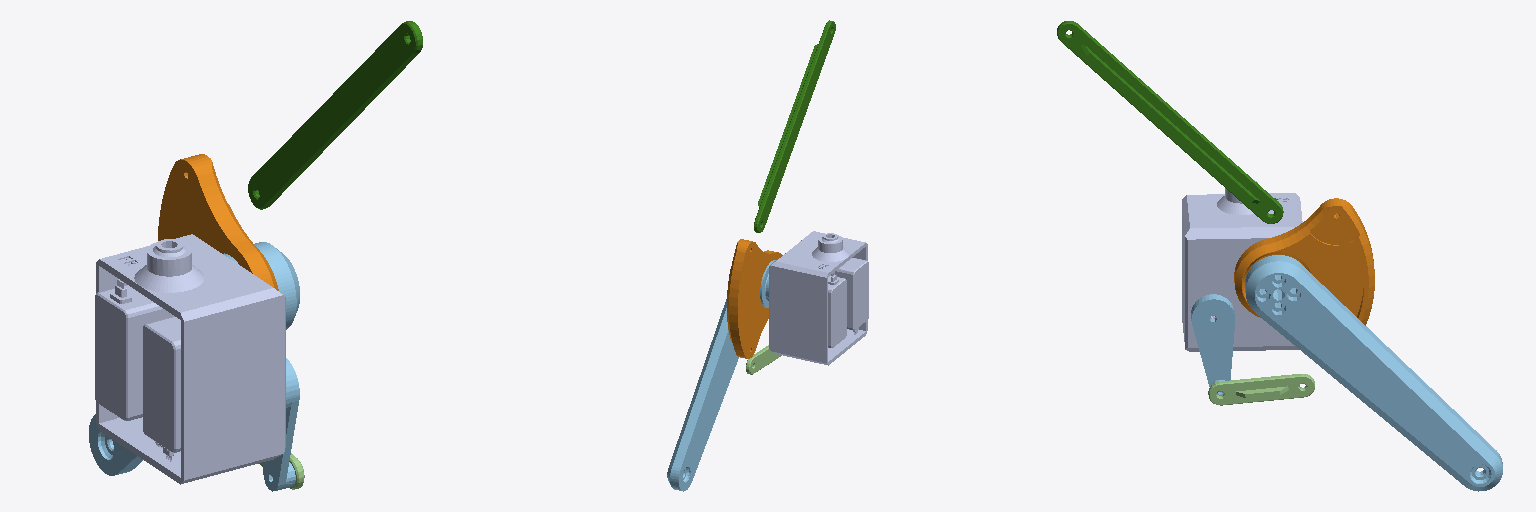
URDF robot description (front,_right_leg_assy):
<?xml version="1.0" ?>
<robot name="front,_right_leg_assy">
  <link name="base">
    <inertial>
      <origin rpy="0 0 0" xyz="0 0 0"/>
      <mass value="0.001"/>
      <inertia ixx="0.000001" ixy="0" ixz="0" iyy="0.000001" iyz="0" izz="0.000001"/>
    </inertial>
  </link>
  <joint name="floating_base" type="fixed">
    <origin rpy="0 0 0" xyz="0 0 0"/>
    <parent link="base"/>
    <child link="CLS6336_Servo"/>
  </joint>
  <link name="CLS6336_Servo">
    <visual>
      <origin xyz="0 0 0" rpy="0 0 0"/>
      <geometry>
        <mesh filename="meshes/CLS6336_Servo.stl"/>
      </geometry>
      <material name="CLS6336_Servo_material">
        <color rgba="0.79607843 0.82352941 0.9372549 1"/>
      </material>
    </visual>
    <collision>
      <origin xyz="0 0 0" rpy="0 0 0"/>
      <geometry>
        <mesh filename="meshes/CLS6336_Servo.stl"/>
      </geometry>
    </collision>
    <inertial>
      <mass value="0.553076941"/>
      <inertia ixx="0.00023240874079133314" iyy="0.0001719501856006602" izz="0.00021389105564056506" ixy="2.6117988070116723e-06" ixz="5.962666479267228e-07" iyz="-9.939585637284283e-07"/>
      <origin xyz="0.0011856144539308517 -0.014462700318043652 3.7737942557663173e-06" rpy="0 0 0"/>
    </inertial>
  </link>
  <joint name="Revolute_3" type="revolute">
    <origin xyz="0.025309373 0.0010908085 0.009862222" rpy="-1.5707963 0 1.6138687"/>
    <parent link="CLS6336_Servo"/>
    <child link="Hip_Horn"/>
    <limit effort="80" velocity="5" lower="0" upper="0"/>
    <axis xyz="0 0 1"/>
  </joint>
  <link name="Hip_Horn">
    <visual>
      <origin xyz="0 0 0" rpy="0 0 0"/>
      <geometry>
        <mesh filename="meshes/Hip_Horn.stl"/>
      </geometry>
      <material name="Hip_Horn_material">
        <color rgba="0.61568627 0.81176471 0.92941176 1"/>
      </material>
    </visual>
    <collision>
      <origin xyz="0 0 0" rpy="0 0 0"/>
      <geometry>
        <mesh filename="meshes/Hip_Horn.stl"/>
      </geometry>
    </collision>
    <inertial>
      <mass value="0.0511314554"/>
      <inertia ixx="5.2939233203605856e-05" iyy="5.2939233858889525e-05" izz="0.00010232304335895765" ixy="-4.8218811229478833e-05" ixz="-3.194421707966363e-06" iyz="-3.1944216862605973e-06"/>
      <origin xyz="-0.03494724429132352 -0.03494724405386061 -0.014066303948382371" rpy="0 0 0"/>
    </inertial>
  </link>
  <joint name="Revolute_4" type="revolute">
    <origin xyz="0 0 -0.00315" rpy="0 0 1.5707963"/>
    <parent link="Hip_Horn"/>
    <child link="RHS,_Servo_Cam"/>
    <limit effort="80" velocity="5" lower="0" upper="6.2831853"/>
    <axis xyz="0 0 1"/>
  </joint>
  <link name="RHS,_Servo_Cam">
    <visual>
      <origin xyz="0 0 0" rpy="0 0 0"/>
      <geometry>
        <mesh filename="meshes/RHS,_Servo_Cam.stl"/>
      </geometry>
      <material name="RHS,_Servo_Cam_material">
        <color rgba="0.90980392 0.57254902 0.16470588 1"/>
      </material>
    </visual>
    <collision>
      <origin xyz="0 0 0" rpy="0 0 0"/>
      <geometry>
        <mesh filename="meshes/RHS,_Servo_Cam.stl"/>
      </geometry>
    </collision>
    <inertial>
      <mass value="0.021478198"/>
      <inertia ixx="5.3641725e-06" iyy="7.7545428e-06" izz="1.289077e-05" ixy="0" ixz="0" iyz="0"/>
      <origin xyz="-0.0018197921 -0.019147273 -0.0015295015" rpy="0 0 0"/>
    </inertial>
  </link>
  <joint name="Revolute_1" type="revolute">
    <origin xyz="0.02655808391637864 -0.02788229575362625 -0.010137777866300712" rpy="3.0985203732051025 1.5707962488400793 0.0"/>
    <parent link="CLS6336_Servo"/>
    <child link="Knee_Horn"/>
    <limit effort="80" velocity="5" lower="0.52359878" upper="2.443461"/>
    <axis xyz="0 0 1"/>
  </joint>
  <link name="Knee_Horn">
    <visual>
      <origin xyz="0 0 0" rpy="0 0 0"/>
      <geometry>
        <mesh filename="meshes/Knee_Horn.stl"/>
      </geometry>
      <material name="Knee_Horn_material">
        <color rgba="0.61568627 0.81176471 0.92941176 1"/>
      </material>
    </visual>
    <collision>
      <origin xyz="0 0 0" rpy="0 0 0"/>
      <geometry>
        <mesh filename="meshes/Knee_Horn.stl"/>
      </geometry>
    </collision>
    <inertial>
      <mass value="0.0038598669"/>
      <inertia ixx="1e-06" iyy="1e-06" izz="1e-06" ixy="0" ixz="0" iyz="0"/>
      <origin xyz="0 -0.010385503 -0.0011193915" rpy="0 0 0"/>
    </inertial>
  </link>
  <joint name="Revolute_5" type="revolute">
    <origin xyz="-0.09192388186655782 -0.09192388124194455 -0.0132" rpy="-3.1415926071795863 0.0 0.7853981600000002"/>
    <parent link="Hip_Horn"/>
    <child link="(RIGHT_Lower_Leg_simple)-(Boss-Extrude3)"/>
    <limit effort="80" velocity="5" lower="0" upper="0"/>
    <axis xyz="0 0 1"/>
  </joint>
  <link name="(RIGHT_Lower_Leg_simple)-(Boss-Extrude3)">
    <visual>
      <origin xyz="0 0 0" rpy="0 0 0"/>
      <geometry>
        <mesh filename="meshes/(RIGHT_Lower_Leg_simple)-(Boss-Extrude3).stl"/>
      </geometry>
      <material name="(RIGHT_Lower_Leg_simple)-(Boss-Extrude3)_material">
        <color rgba="0.37254902 0.65490196 0.23921569 1"/>
      </material>
    </visual>
    <collision>
      <origin xyz="0 0 0" rpy="0 0 0"/>
      <geometry>
        <mesh filename="meshes/(RIGHT_Lower_Leg_simple)-(Boss-Extrude3).stl"/>
      </geometry>
    </collision>
    <inertial>
      <mass value="0.057644496"/>
      <inertia ixx="7.9749588e-05" iyy="8.3357435e-05" izz="0.00015610457" ixy="7.560864e-05" ixz="-2.7077089e-06" iyz="2.5131393e-06"/>
      <origin xyz="0.044912722 -0.043111703 0.0021896074" rpy="0 0 0"/>
    </inertial>
  </link>
  <joint name="Revolute_2" type="revolute">
    <origin xyz="0 -0.035 -0.00705" rpy="0 0 3.1415927"/>
    <parent link="Knee_Horn"/>
    <child link="Push_Rod,_Cam"/>
    <limit effort="80" velocity="5" lower="0" upper="6.2831853"/>
    <axis xyz="0 0 1"/>
  </joint>
  <link name="Push_Rod,_Cam">
    <visual>
      <origin xyz="0 0 0" rpy="0 0 0"/>
      <geometry>
        <mesh filename="meshes/Push_Rod,_Cam.stl"/>
      </geometry>
      <material name="Push_Rod,_Cam_material">
        <color rgba="0.65490196 0.82352941 0.57647059 1"/>
      </material>
    </visual>
    <collision>
      <origin xyz="0 0 0" rpy="0 0 0"/>
      <geometry>
        <mesh filename="meshes/Push_Rod,_Cam.stl"/>
      </geometry>
    </collision>
    <inertial>
      <mass value="0.0020462267"/>
      <inertia ixx="1e-06" iyy="1e-06" izz="1e-06" ixy="0" ixz="0" iyz="0"/>
      <origin xyz="0.018824313 0 -0.0018273505" rpy="0 0 0"/>
    </inertial>
  </link>
  <joint name="Revolute_6" type="revolute">
    <origin xyz="-0.028281548 0.023856949 -0.00405" rpy="3.1415927 0 0"/>
    <parent link="(RIGHT_Lower_Leg_simple)-(Boss-Extrude3)"/>
    <child link="Push_Rod,_Upper"/>
    <limit effort="80" velocity="5" lower="0" upper="0"/>
    <axis xyz="0 0 1"/>
  </joint>
  <link name="Push_Rod,_Upper">
    <visual>
      <origin xyz="0 0 0" rpy="0 0 0"/>
      <geometry>
        <mesh filename="meshes/Push_Rod,_Upper.stl"/>
      </geometry>
      <material name="Push_Rod,_Upper_material">
        <color rgba="0.28235294 0.54901961 0.16078431 1"/>
      </material>
    </visual>
    <collision>
      <origin xyz="0 0 0" rpy="0 0 0"/>
      <geometry>
        <mesh filename="meshes/Push_Rod,_Upper.stl"/>
      </geometry>
    </collision>
    <inertial>
      <mass value="0.0067775517"/>
      <inertia ixx="1e-06" iyy="1.0082202e-05" izz="1.0123273e-05" ixy="0" ixz="0" iyz="0"/>
      <origin xyz="0.065140538 0 -0.0020636008" rpy="0 0 0"/>
    </inertial>
  </link>
</robot>

--- Facts derived from the render (not from the file) ---
Views: 3 orthographic renders of the robot side by side, from view 1: azimuth 30°, elevation 25°; view 2: azimuth 150°, elevation 25°; view 3: azimuth 270°, elevation 25°.
Model front,_right_leg_assy with 8 links and 7 joints (6 revolute, 1 fixed), rooted at base, posed joints at zero except 1 at the middle of their limits (Revolute_1 = 1.48).
Links seen in each view (by area): view 1: CLS6336_Servo, Push_Rod,_Upper, RHS,_Servo_Cam, Hip_Horn, Knee_Horn; view 2: CLS6336_Servo, Hip_Horn, RHS,_Servo_Cam, Push_Rod,_Upper; view 3: Hip_Horn, CLS6336_Servo, RHS,_Servo_Cam, Push_Rod,_Upper, Knee_Horn, Push_Rod,_Cam.
Boxes of the visible links, box(x1,y1,x2,y2) form: CLS6336_Servo: box(95, 234, 285, 484); Push_Rod,_Upper: box(248, 21, 422, 209); RHS,_Servo_Cam: box(158, 154, 278, 290); Hip_Horn: box(89, 242, 299, 475); Knee_Horn: box(263, 358, 299, 491); CLS6336_Servo: box(769, 231, 868, 365); Hip_Horn: box(667, 260, 776, 491); RHS,_Servo_Cam: box(727, 239, 782, 358); Push_Rod,_Upper: box(754, 20, 835, 232); Hip_Horn: box(1245, 255, 1502, 491); CLS6336_Servo: box(1182, 180, 1302, 351); RHS,_Servo_Cam: box(1234, 198, 1374, 325); Push_Rod,_Upper: box(1057, 21, 1283, 223); Knee_Horn: box(1191, 294, 1234, 395); Push_Rod,_Cam: box(1208, 374, 1314, 405).
Bounding box of the posed robot: 0.0675 × 0.2032 × 0.2368 m (x, y, z).
Meshes: 7 distinct files referenced, 6 mesh visuals loaded (6 binary STL); not drawn: 1 (reference not matched to a file when rendering).
